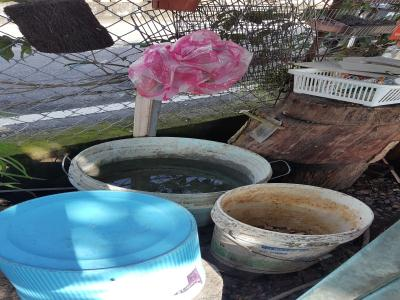bowl: (1, 188, 204, 300)
bucket: (61, 135, 275, 225), (206, 181, 375, 277)
plastic_bag: (130, 30, 246, 97)
